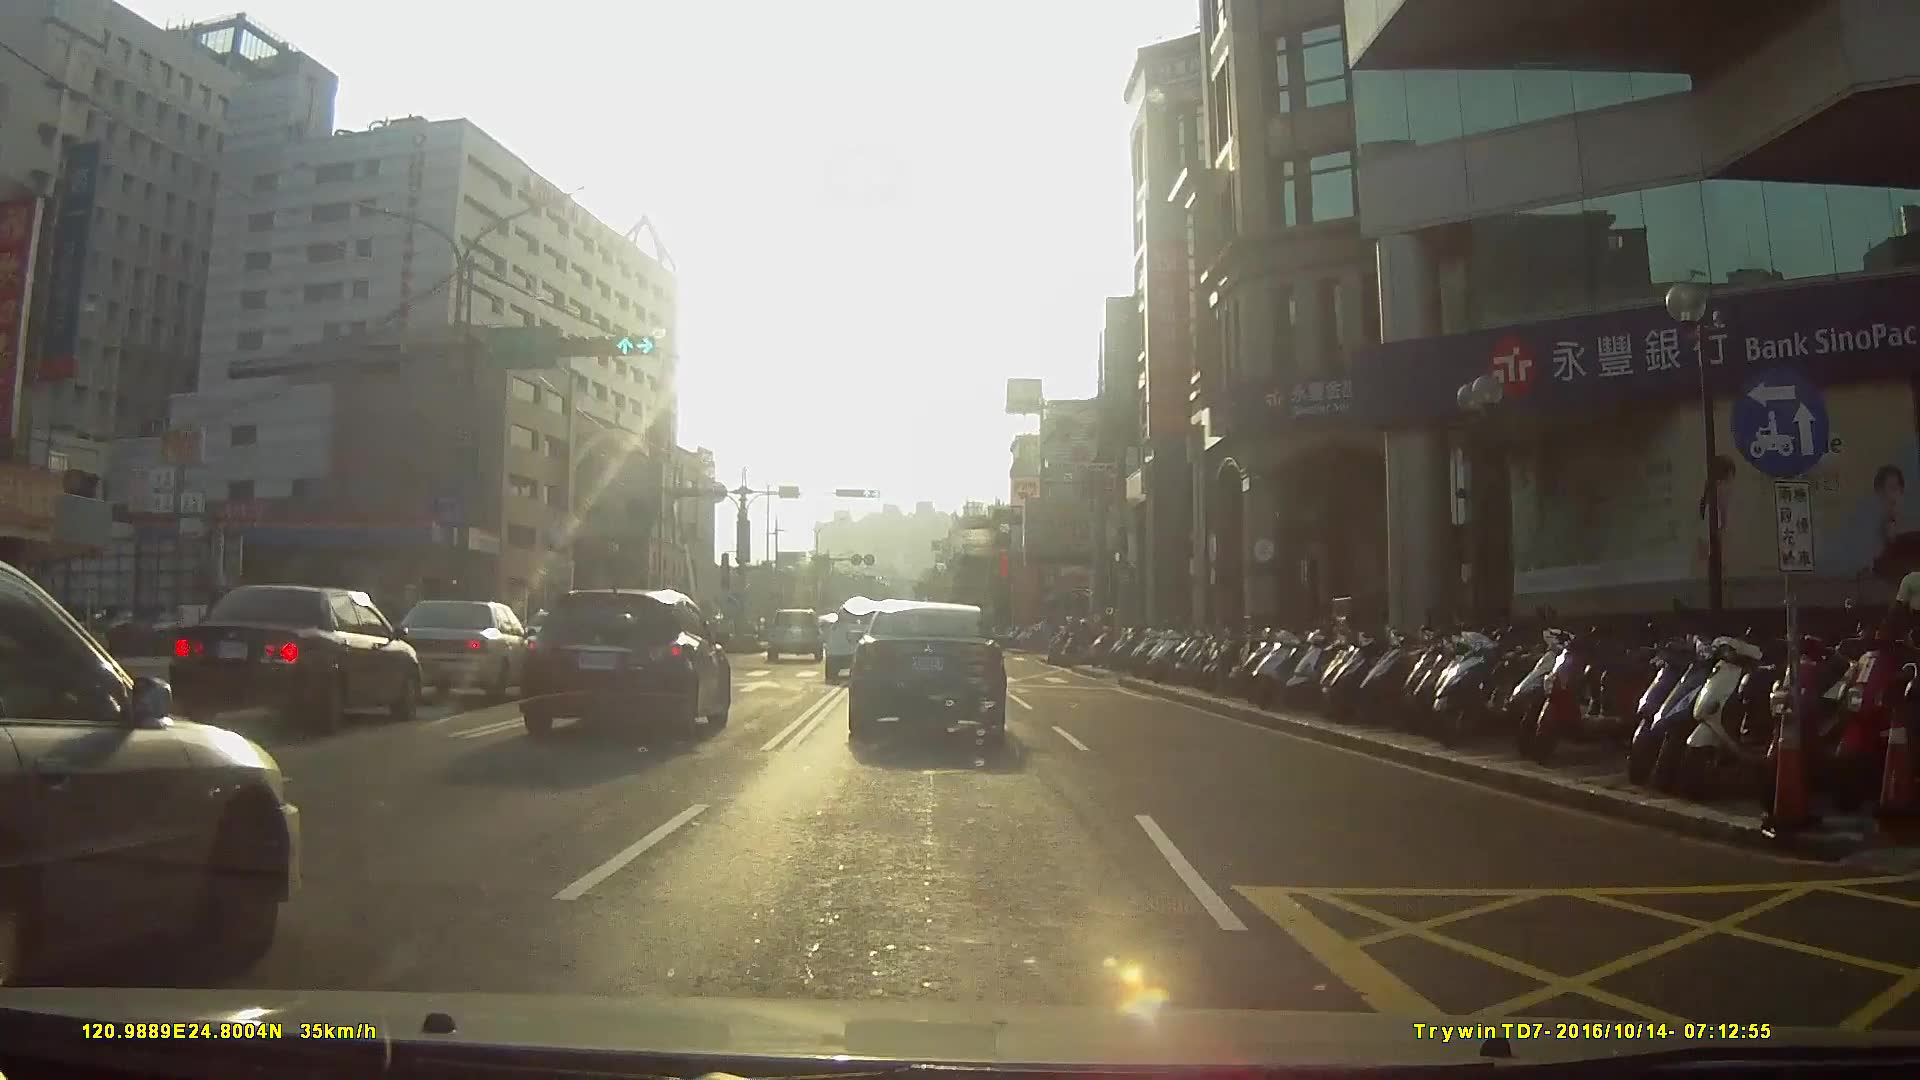pedestrian: (1886, 555, 1920, 677)
rider: (1058, 620, 1102, 669)
vehicle: (1, 562, 314, 1005), (155, 581, 427, 739), (510, 586, 746, 743), (844, 601, 1022, 742), (370, 596, 549, 704), (818, 599, 897, 683), (760, 606, 819, 661)
